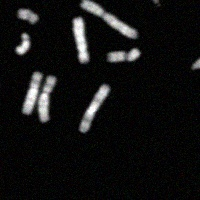chromosome: (82, 0, 137, 39), (80, 83, 112, 134), (38, 77, 57, 123), (22, 71, 42, 114), (72, 16, 89, 63), (106, 46, 140, 65), (14, 31, 31, 56), (17, 8, 36, 23), (190, 48, 200, 74), (149, 0, 162, 8), (0, 0, 1, 20)
